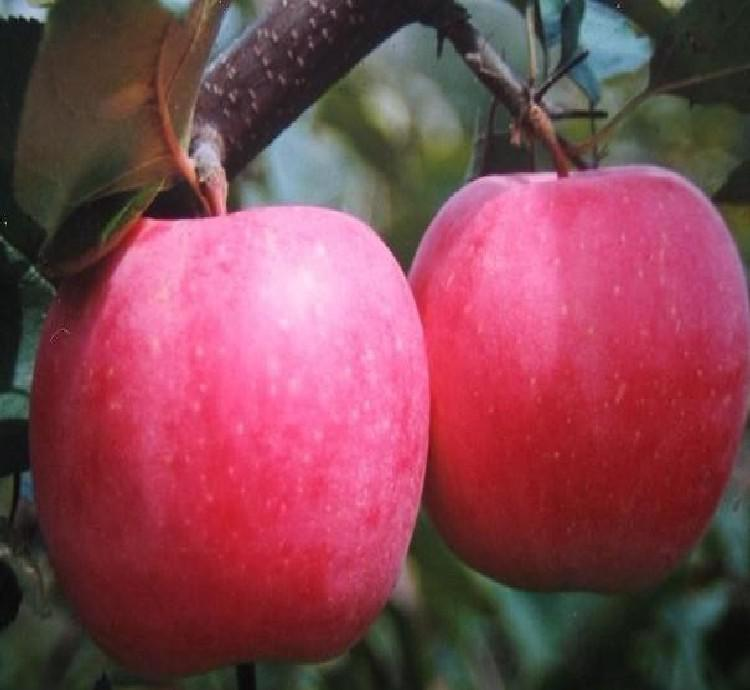apple: (26, 200, 434, 678), (411, 165, 750, 592)
